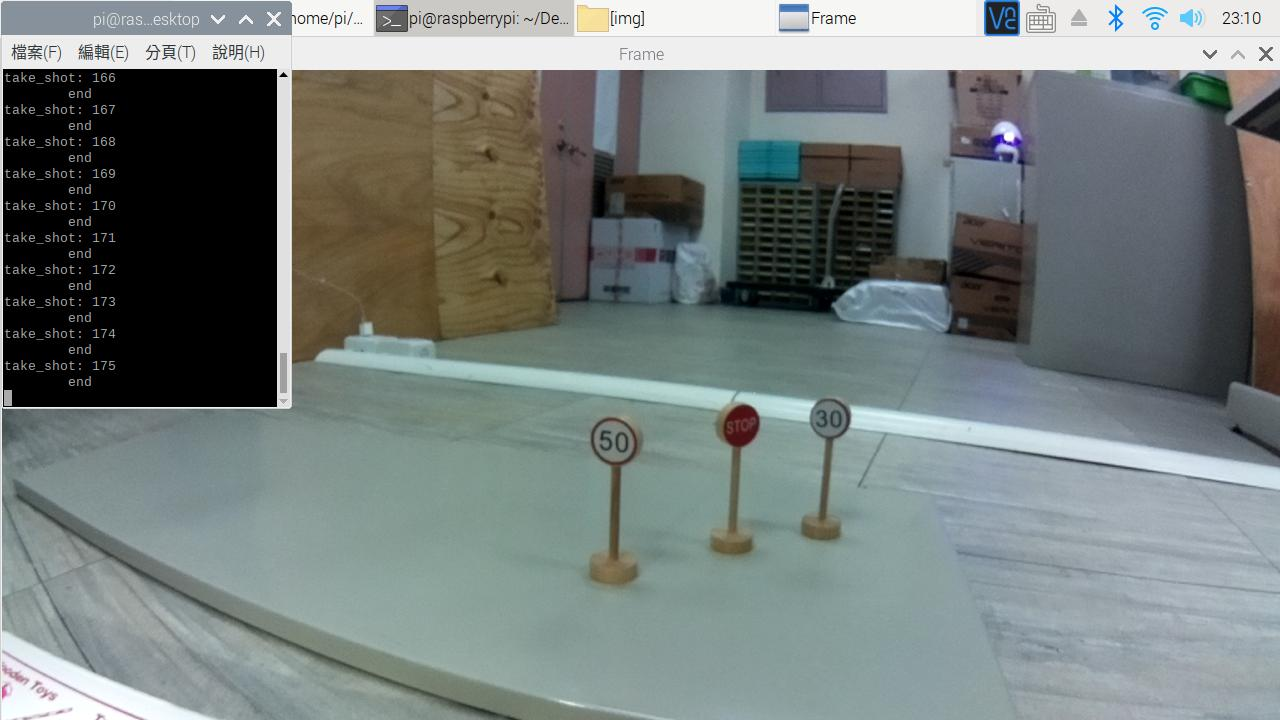Speed30: (794, 394, 863, 446)
Speed50: (583, 414, 652, 475)
Stop: (714, 399, 765, 453)
